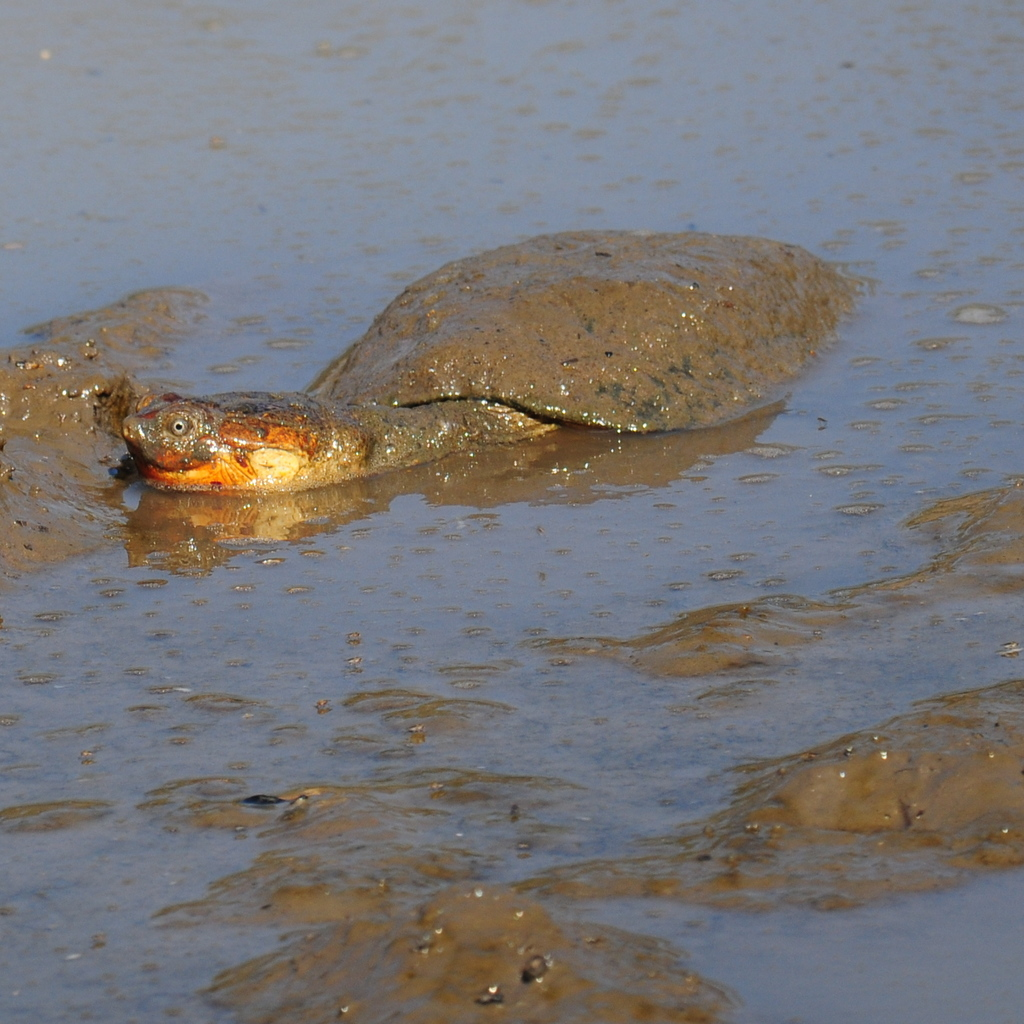Sea turtles: (99, 226, 860, 527)
